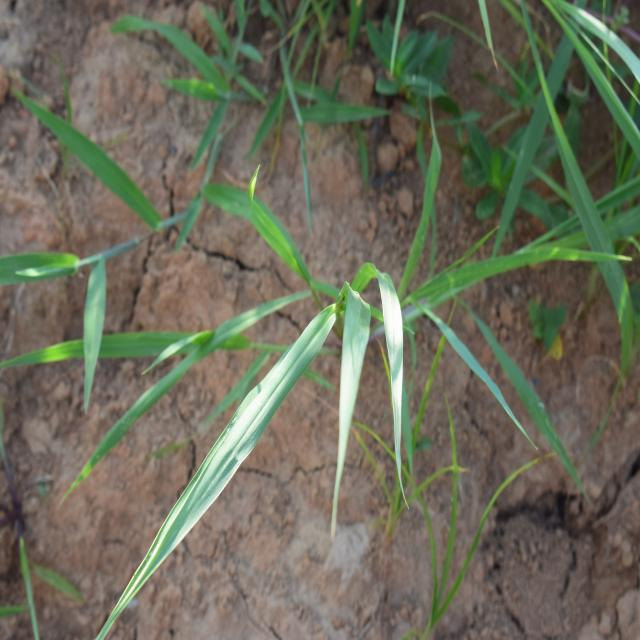green_foxtail: (136, 150, 460, 468)
